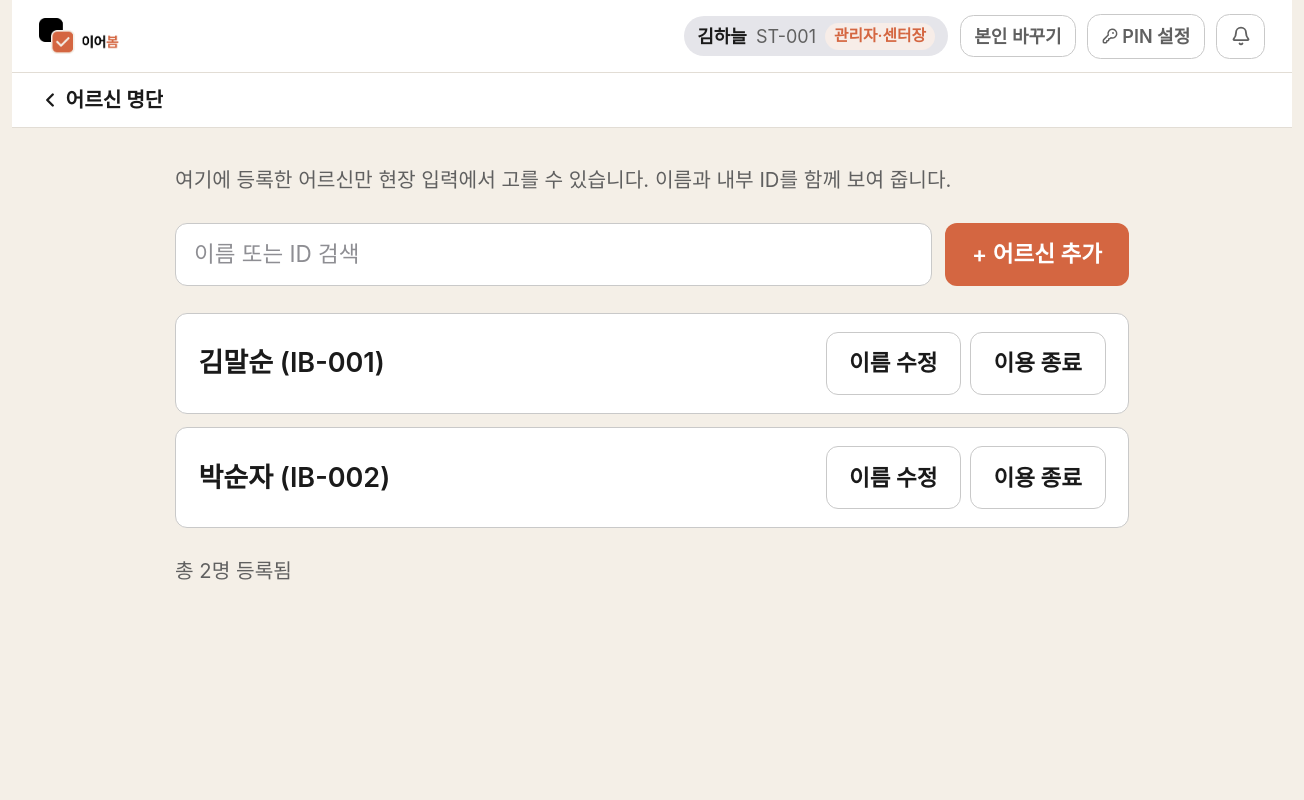
명단 검색 (Issue #102) › 이름으로 실시간 필터링한다
Check: the text "김말순 (IB-001)" is shown, box [198,345,385,381]
Type "박순자" into the search field labelled "이름 또는 ID 검색" at (553, 254), box [175,222,932,286]
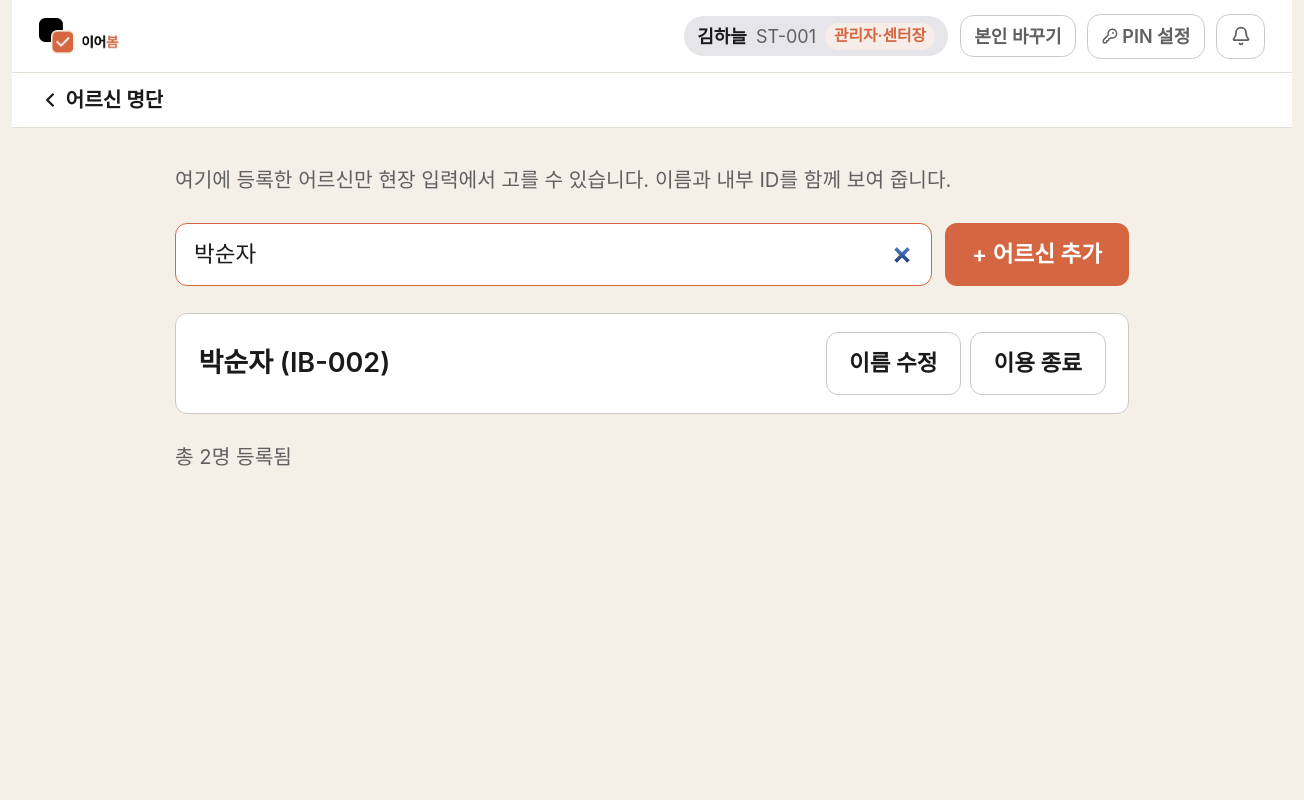
Check: the text "박순자 (IB-002)" is shown, box [198,345,390,381]
Check: the text "김말순 (IB-001)" is gone
